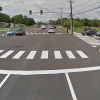crosswalk: (0, 49, 88, 59), (24, 32, 54, 35)
